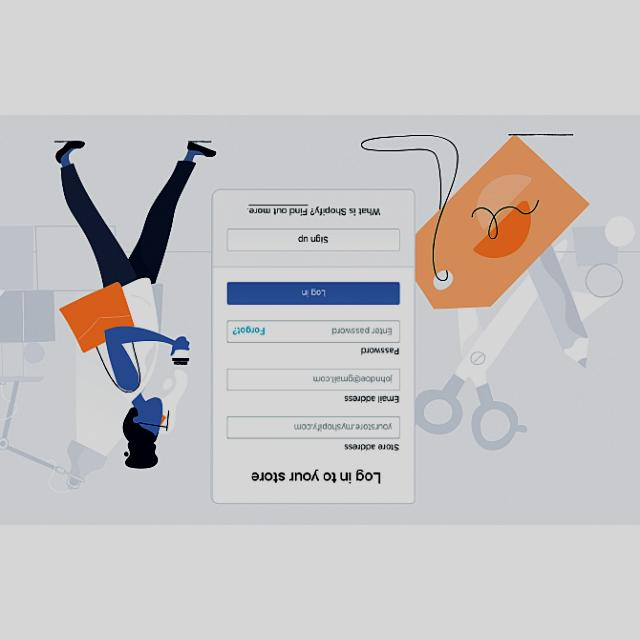QLabel: (248, 469, 386, 487), (309, 206, 381, 217), (248, 204, 308, 216), (344, 442, 401, 452), (344, 394, 401, 404), (360, 346, 400, 356), (296, 233, 330, 244), (301, 288, 327, 298)
VBtn: (226, 280, 400, 306), (226, 227, 400, 251)
VCard: (211, 187, 417, 506)
VDivider: (213, 264, 415, 268)
VTextField: (226, 318, 400, 344), (226, 366, 400, 392), (226, 416, 402, 440)
